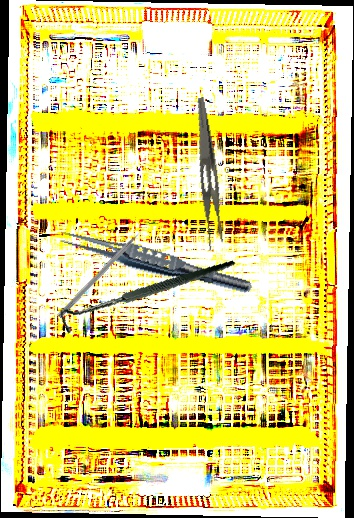Dressing Forceps: (180, 97, 232, 251)
Hook Surgical: (57, 232, 236, 361)
Pusher: (57, 221, 152, 320)
Tissue Forceps: (54, 225, 256, 298)
